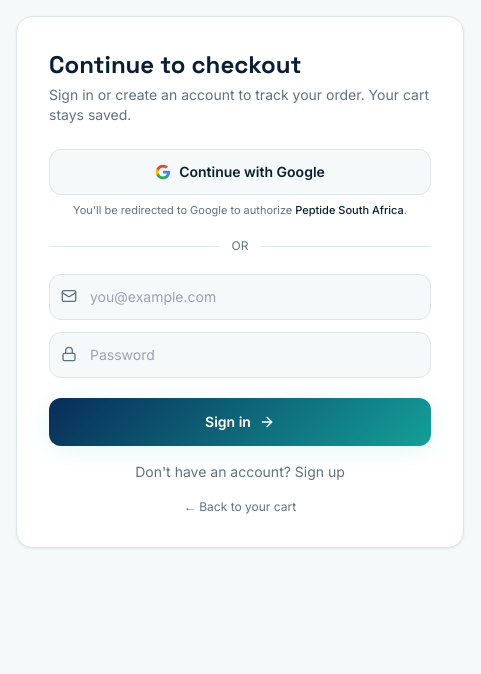
keeps unconfirmed signup on clear email instructions
This screenshot has width=481, height=674.
Click the button "Don't have an account? Sign up" at point(240, 472), box x1=49 y1=462 x2=431 y2=482
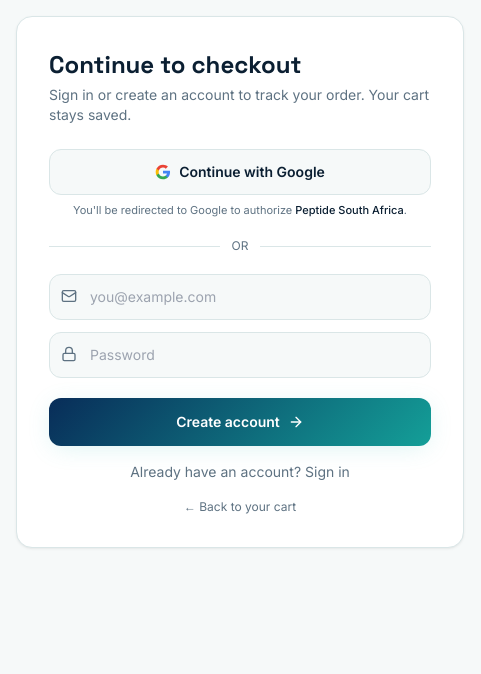
Type "test@example.invalid" into the field with placeholder "you@example.com" at point(240, 297), box x1=49 y1=274 x2=431 y2=320
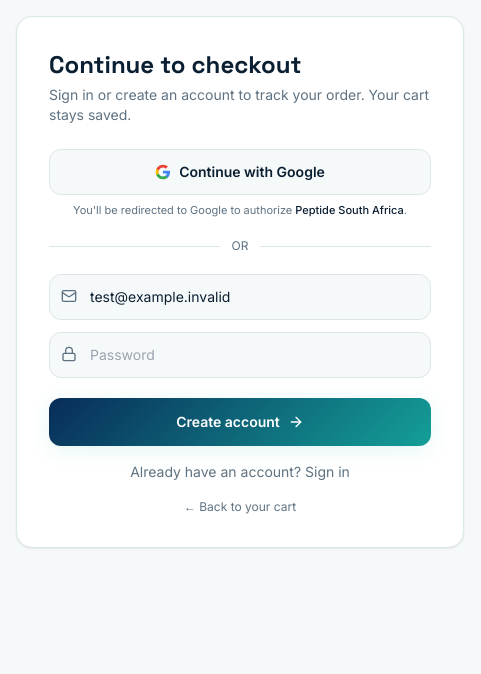
Type "fixture-only" into the password field with placeholder "Password" at point(240, 355), box x1=49 y1=332 x2=431 y2=378
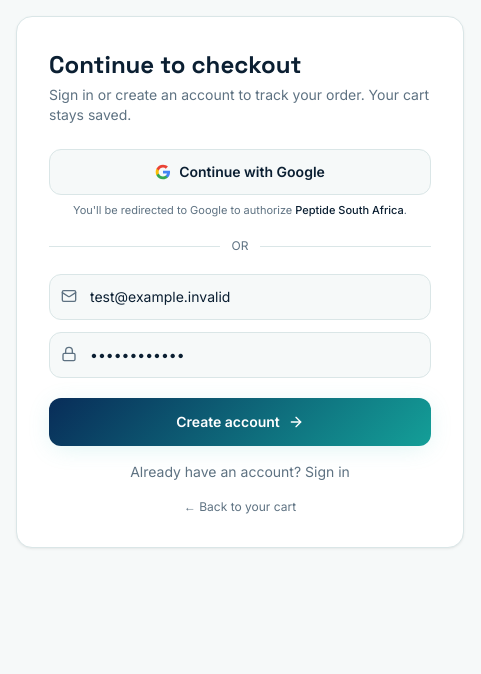
Click the button "Create account" at point(240, 422), box x1=49 y1=398 x2=431 y2=446
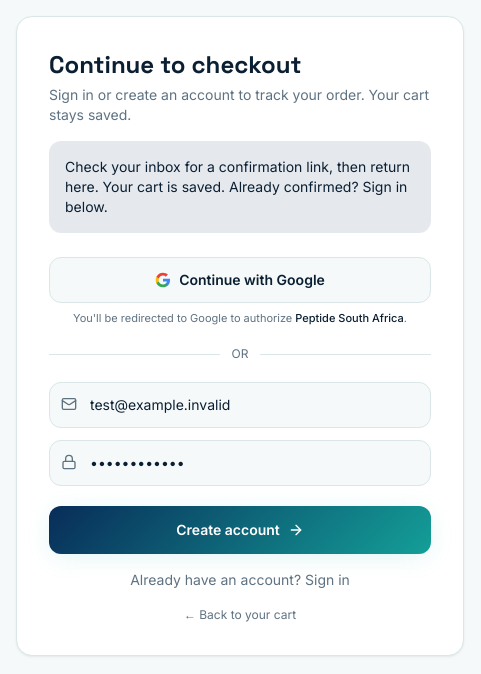
Check: the message shows "Check your inbox", box x1=65 y1=158 x2=410 y2=215
